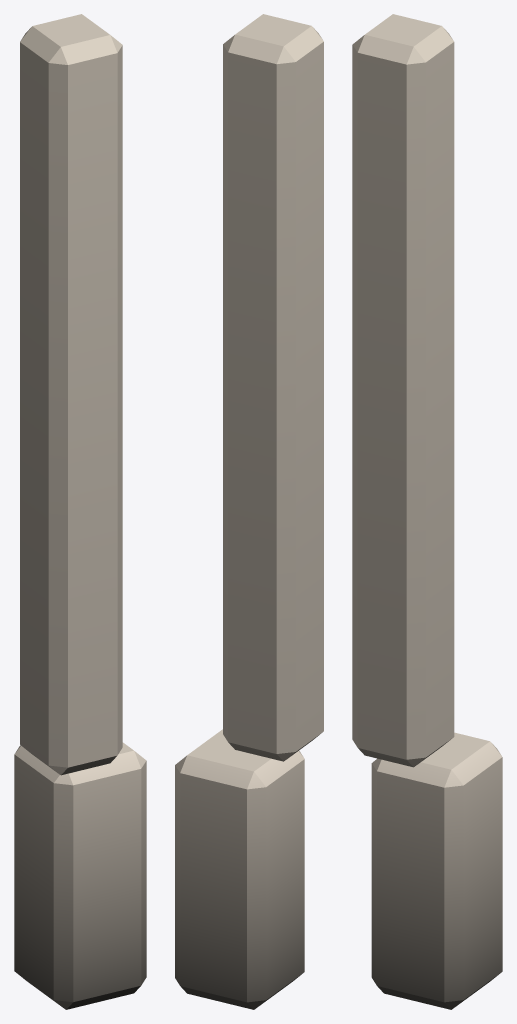
File: SM_VK_InnerCorner_Plaster.fbx
3 views of the same model, side by side, from view 1: azimuth 30°, elevation 25°; view 2: azimuth 150°, elevation 25°; view 3: azimuth 330°, elevation 25° (orthographic).
Visible parts, largest first — view 1: SM_VK_InnerCorner_Plaster.001; view 2: SM_VK_InnerCorner_Plaster.001; view 3: SM_VK_InnerCorner_Plaster.001.
Part boxes in pixels (x1,y1,x2,y2): SM_VK_InnerCorner_Plaster.001: [14, 14, 146, 1009]; SM_VK_InnerCorner_Plaster.001: [175, 14, 323, 1009]; SM_VK_InnerCorner_Plaster.001: [352, 14, 502, 1009].
Size of the model in its own units: 0.34 by 3 by 0.34.
